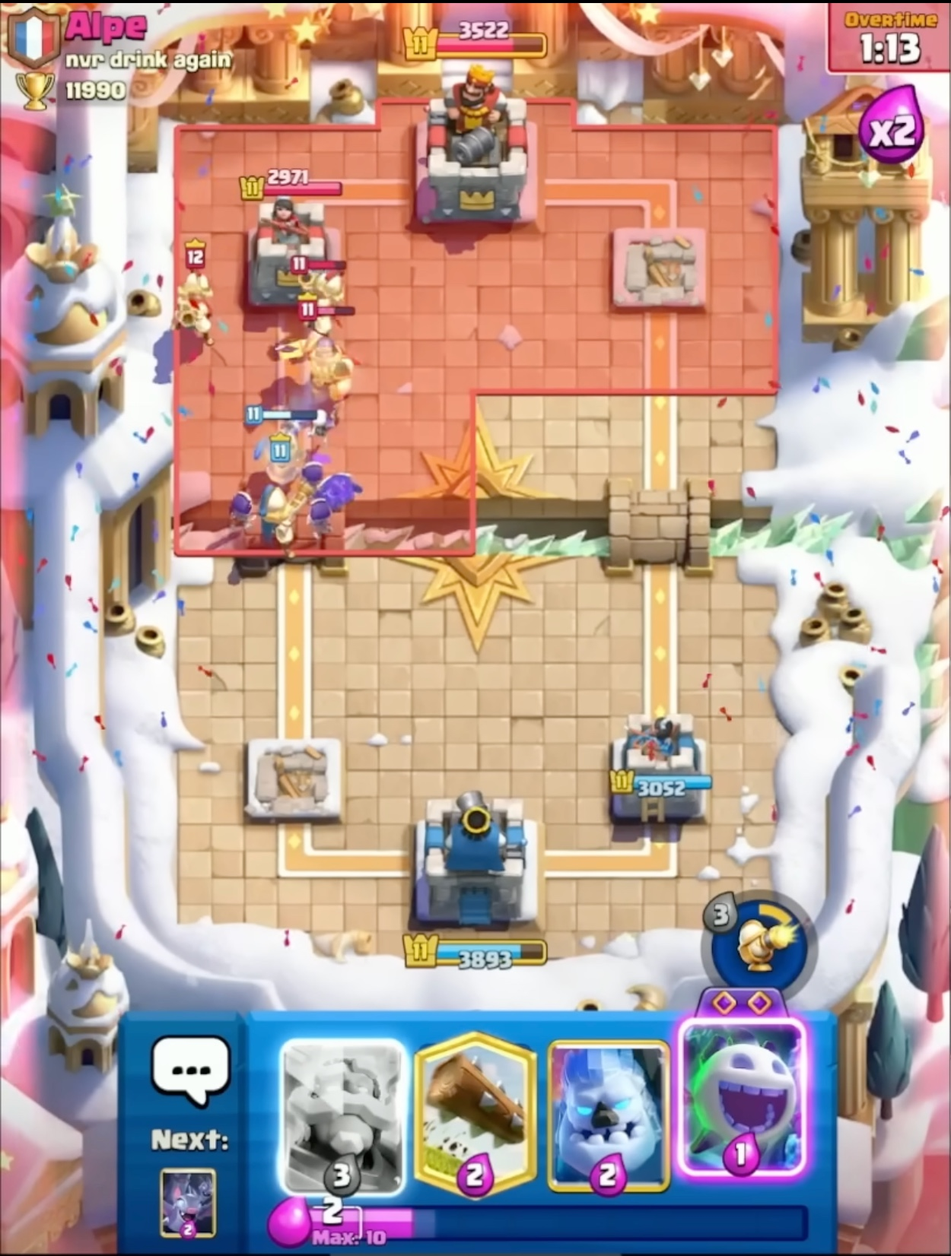hero-knight: (285, 296, 357, 420)
hero-musketeer: (171, 234, 222, 350), (286, 256, 352, 343)
